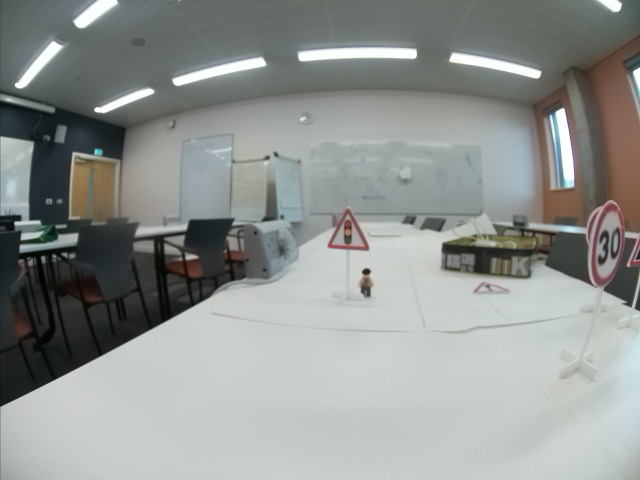30mph: (589, 202, 629, 288)
Lego Man: (359, 265, 375, 297)
Traffic lights: (327, 206, 374, 251)
Warning: (472, 279, 511, 296)
